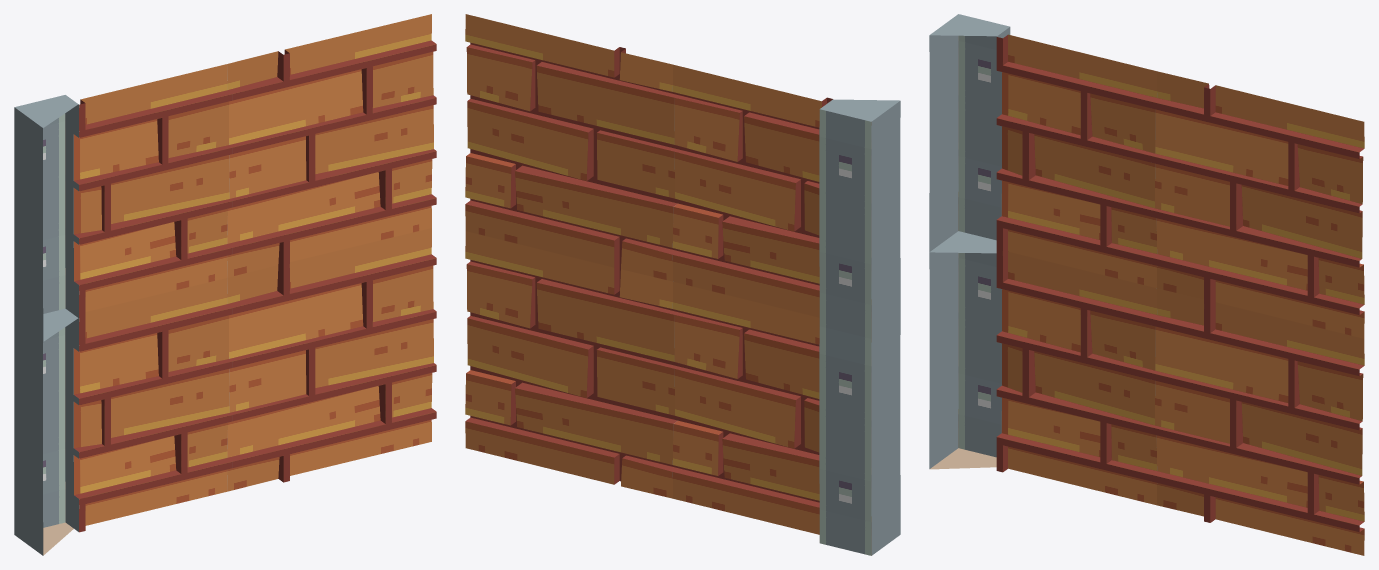
The model's file is RightKayu.fbx.
3 views of the same model, side by side, from view 1: azimuth 30°, elevation 25°; view 2: azimuth 150°, elevation 25°; view 3: azimuth 330°, elevation 25° (orthographic).
Visible parts, largest first — view 1: RightKayu; view 2: RightKayu; view 3: RightKayu.
Boxes of the visible parts, left/top/right/bottom form: RightKayu: left=14, top=14, right=436, bottom=555; RightKayu: left=465, top=14, right=900, bottom=555; RightKayu: left=929, top=14, right=1364, bottom=555.
Size of the model in its own units: 11.65 by 94.81 by 94.81.
